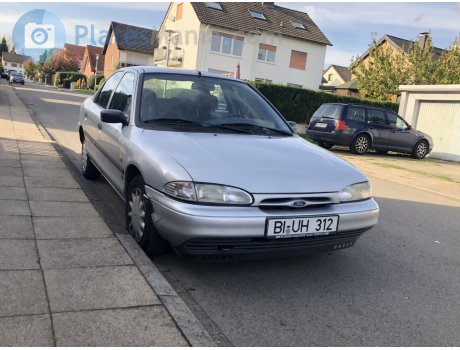License Plates: (273, 221, 329, 234)
